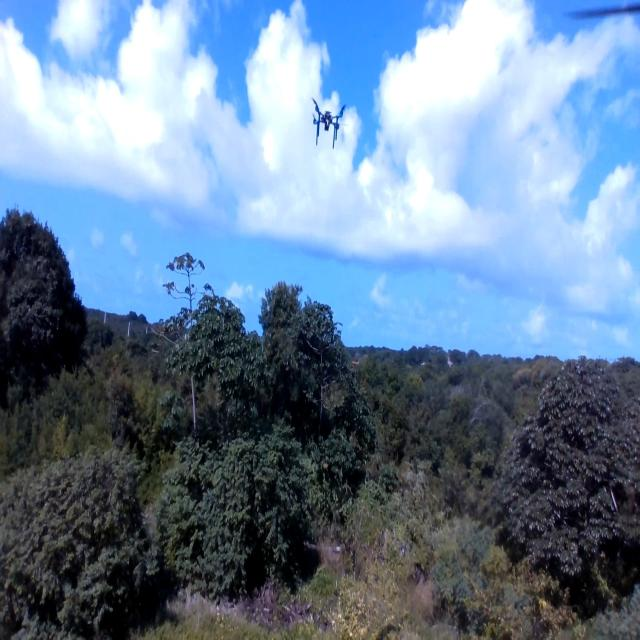-uav-: (302, 78, 366, 168)
